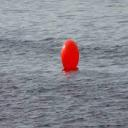red: (60, 40, 80, 70)
